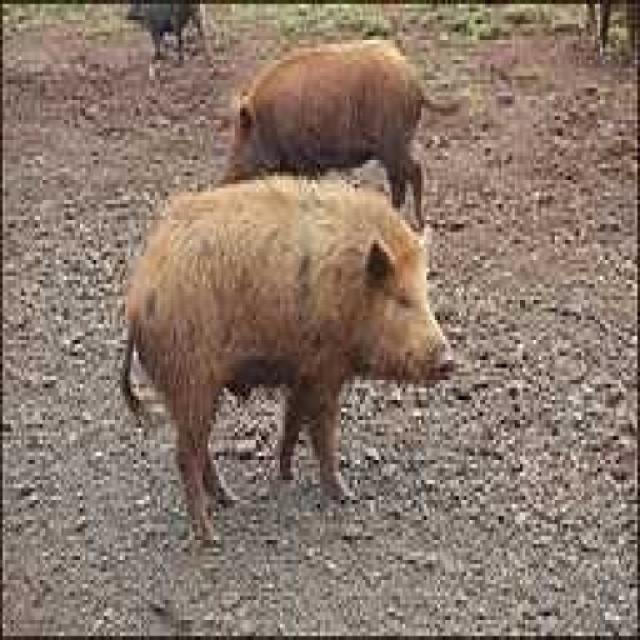pig: (127, 148, 502, 514), (202, 9, 456, 216)
